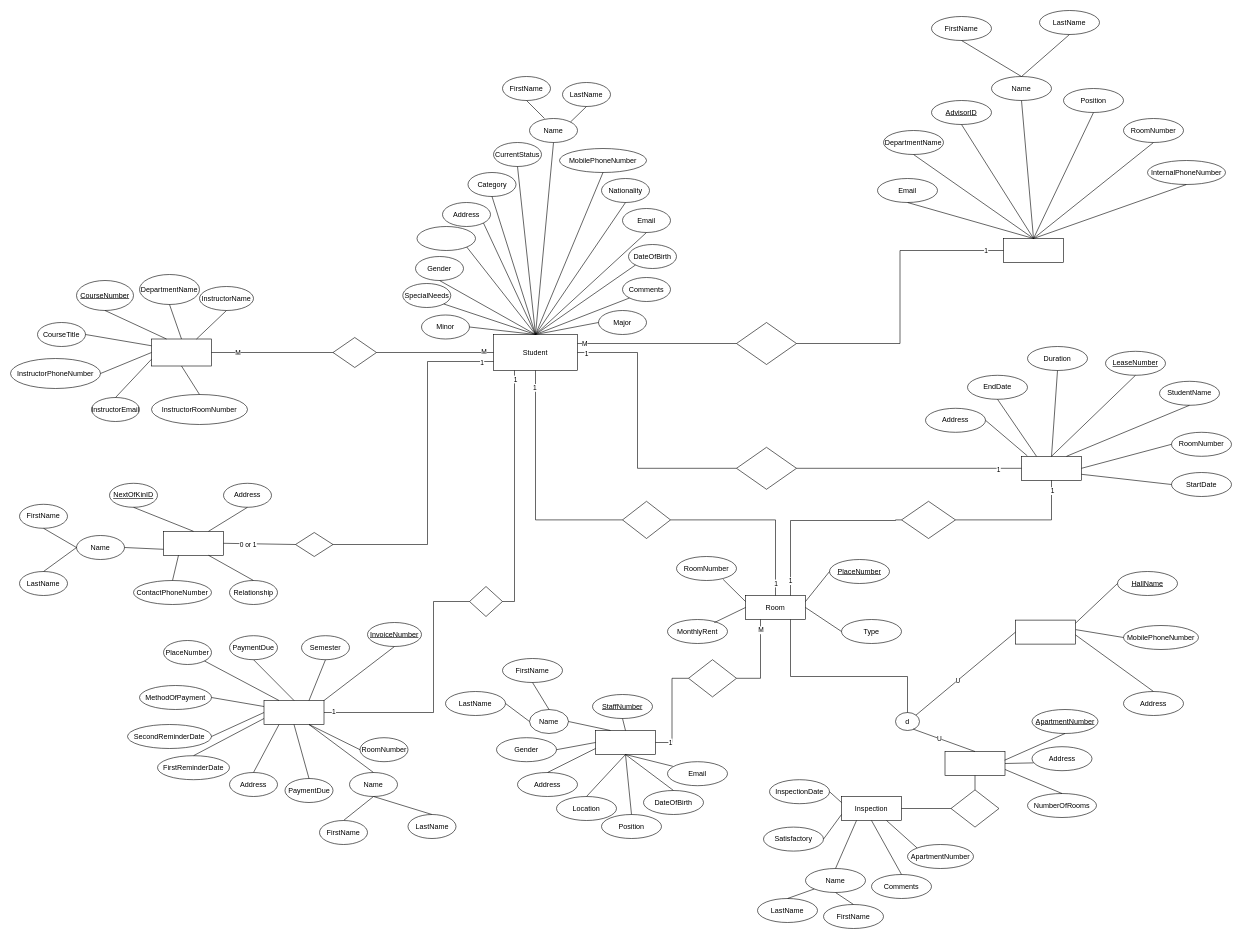
This 1242x939 diagram has some shape labels left out. Here are the shapes that lost their labels. From the top down, the centre of each, then its label:
At (x=446, y=238): "BannerNumber".
At (x=1033, y=250): "Advisor".
At (x=181, y=352): "Course".
At (x=354, y=352): "Enrolls".
At (x=766, y=343): "Assigned to".
At (x=766, y=468): "Part of".
At (x=1051, y=468): "Lease".
At (x=646, y=519): "Lives in".
At (x=928, y=519): "Associated with".
At (x=193, y=543): "NextOfKin".
At (x=314, y=544): "has".
At (x=485, y=601): "sent to".
At (x=1045, y=632): "Hall of Residence".
At (x=712, y=678): "Manages".
At (x=293, y=712): "Invoice".
At (x=625, y=742): "Residence Staff".
At (x=974, y=763): "Student Apartment".
At (x=974, y=808): "Is Inspected".
